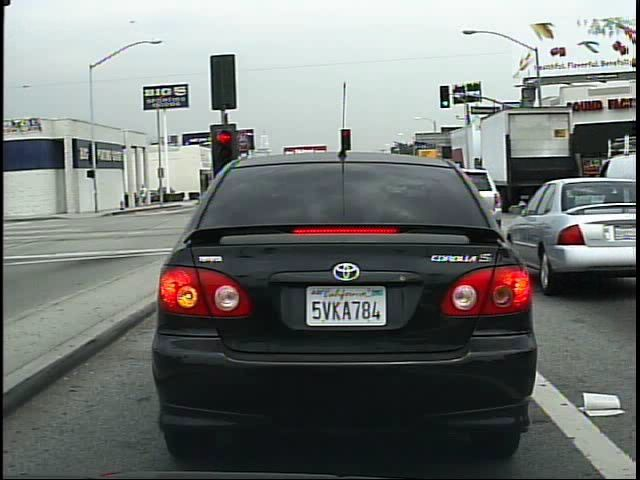person: (517, 169, 532, 202), (137, 182, 150, 211)
